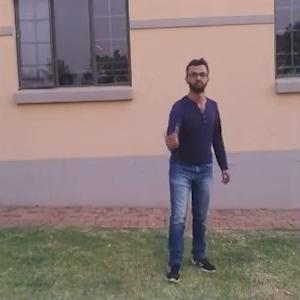takeoff-hand: (156, 119, 181, 153)
